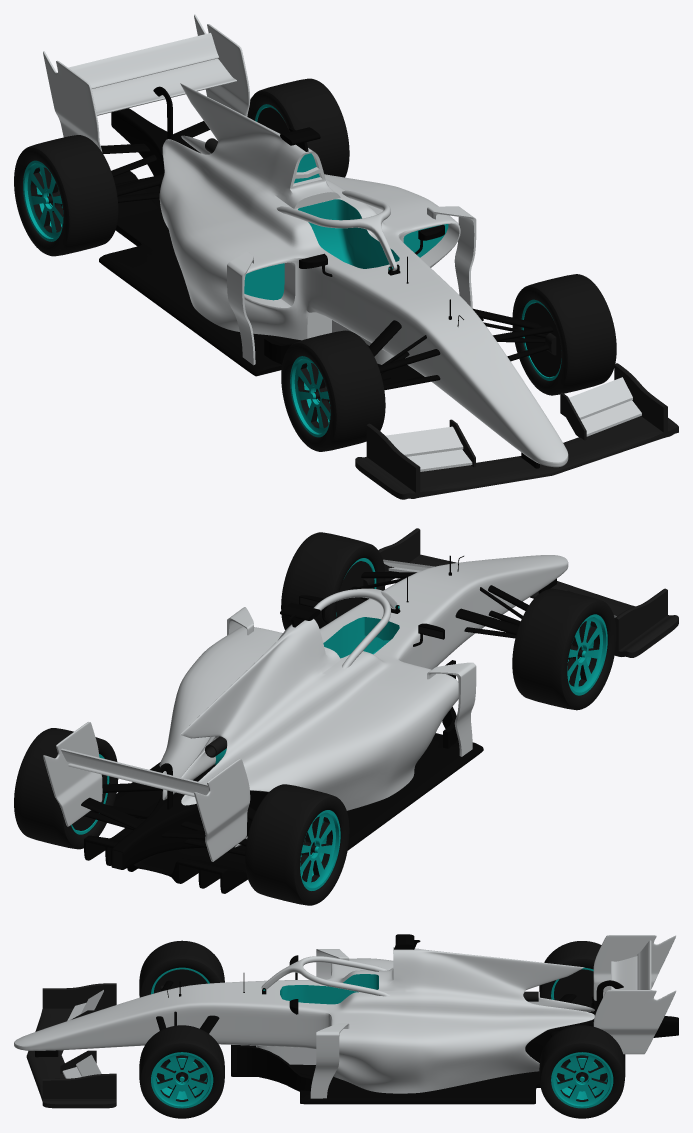
File: Men_accessory_Mercedes_5000.fbx
3 renders of one model, top to bottom at view 1: azimuth 30°, elevation 25°; view 2: azimuth 150°, elevation 25°; view 3: azimuth 270°, elevation 25°, orthographic. The views are drawn at different scales.
Visible parts, largest first — view 1: _gltfNode_0, _gltfNode_3, _gltfNode_13, _gltfNode_16, _gltfNode_4, _gltfNode_2, _gltfNode_10, _gltfNode_1, _gltfNode_14, _gltfNode_17; view 2: _gltfNode_0, _gltfNode_3, _gltfNode_16, _gltfNode_13, _gltfNode_4, _gltfNode_17, _gltfNode_14, _gltfNode_2, _gltfNode_10; view 3: _gltfNode_0, _gltfNode_3, _gltfNode_13, _gltfNode_4, _gltfNode_16, _gltfNode_10, _gltfNode_14, _gltfNode_17, _gltfNode_2, _gltfNode_9.
Boxes of the visible parts, x1,y1,x2,y2 form: _gltfNode_0: (43,14,641,471); _gltfNode_3: (99,86,553,468); _gltfNode_13: (281,274,616,451); _gltfNode_16: (14,78,349,256); _gltfNode_4: (355,363,678,499); _gltfNode_2: (298,199,399,268); _gltfNode_10: (47,107,561,401); _gltfNode_1: (244,153,448,300); _gltfNode_14: (290,299,561,437); _gltfNode_17: (23,104,284,241); _gltfNode_0: (43,555,616,861); _gltfNode_3: (81,555,556,893); _gltfNode_16: (14,728,349,905); _gltfNode_13: (281,532,616,710); _gltfNode_4: (378,528,678,657); _gltfNode_17: (71,754,340,890); _gltfNode_14: (336,558,607,695); _gltfNode_2: (323,617,399,658); _gltfNode_10: (72,561,583,855); _gltfNode_0: (14,935,676,1098); _gltfNode_3: (35,934,678,1104); _gltfNode_13: (139,940,224,1118); _gltfNode_4: (26,983,116,1108); _gltfNode_16: (539,941,625,1118); _gltfNode_10: (153,969,607,1089); _gltfNode_14: (151,967,213,1108); _gltfNode_17: (551,967,613,1108); _gltfNode_2: (280,974,378,1004); _gltfNode_9: (164,1058,600,1091).
Bounding box in the file's own units: 170 × 99.25 × 463.
